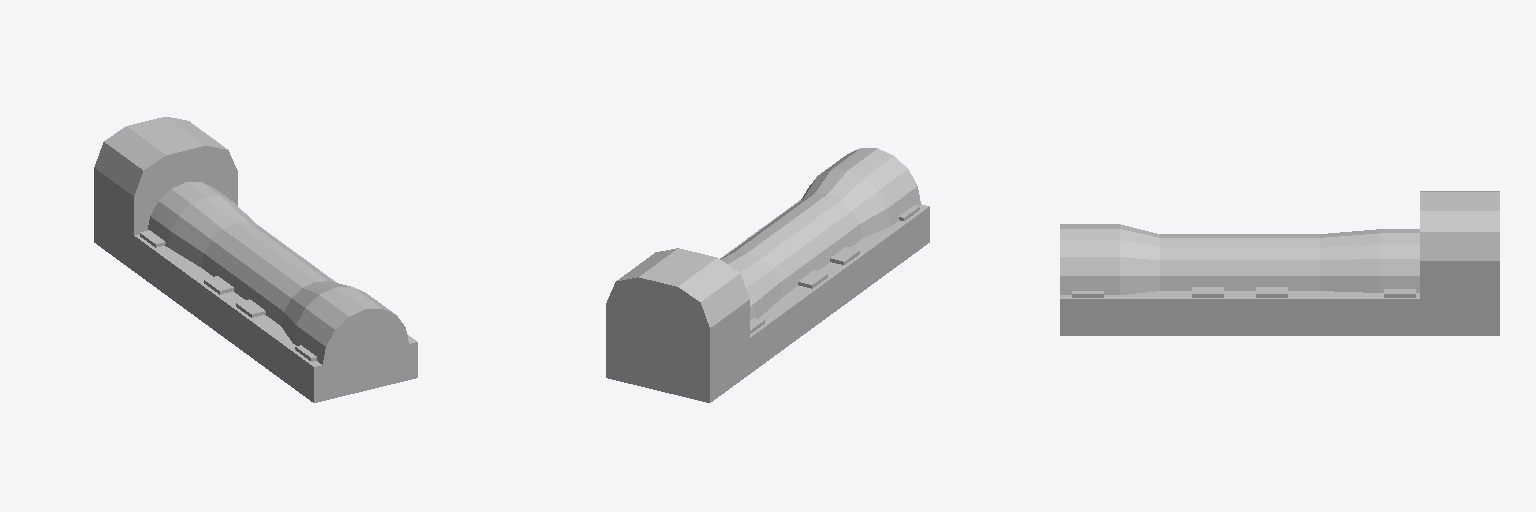
File: gas_turbine.obj
3 views of the same model, side by side, from view 1: azimuth 30°, elevation 25°; view 2: azimuth 150°, elevation 25°; view 3: azimuth 270°, elevation 25° (orthographic).
Parts seen in each view (by area): view 1: Cylinder.001, Cube.007, dynamo; view 2: dynamo, Cylinder.001, Cube.007; view 3: Cylinder.001, Cube.007, dynamo.
Boxes of the visible parts, x1=… form: Cylinder.001: x1=148, y1=182, x2=408, y2=364; Cube.007: x1=134, y1=225, x2=417, y2=402; dynamo: x1=94, y1=117, x2=237, y2=270; dynamo: x1=606, y1=248, x2=749, y2=402; Cylinder.001: x1=720, y1=148, x2=920, y2=320; Cube.007: x1=732, y1=200, x2=929, y2=373; Cylinder.001: x1=1060, y1=224, x2=1419, y2=294; Cube.007: x1=1060, y1=291, x2=1419, y2=335; dynamo: x1=1420, y1=191, x2=1499, y2=335.
Size of the model in its own units: 3 by 3 by 11.